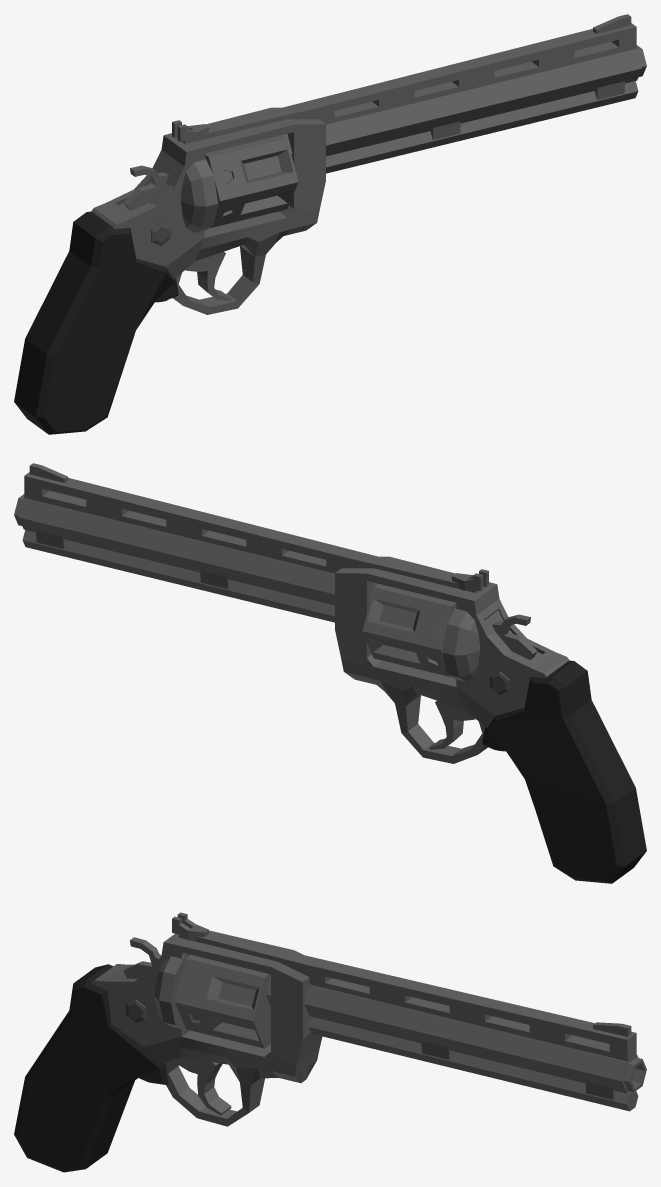
File: Revolver.fbx
3 views of the same model, one above another, from view 1: azimuth 30°, elevation 25°; view 2: azimuth 150°, elevation 25°; view 3: azimuth 330°, elevation 25° (orthographic).
Parts seen in each view (by area): view 1: Main, Cylinder, Hammer; view 2: Main, Cylinder, Hammer; view 3: Main, Cylinder, Hammer.
Boxes of the visible parts, x1,y1,x2,y2 form: Main: (14, 14, 646, 434); Cylinder: (204, 135, 298, 228); Hammer: (123, 165, 168, 210); Main: (14, 463, 646, 883); Cylinder: (362, 584, 456, 677); Hammer: (492, 614, 537, 659); Main: (14, 912, 646, 1172); Cylinder: (175, 955, 270, 1048); Hammer: (123, 937, 161, 978).
Bounding box in the file's own units: 42.27 × 18.03 × 5.65.
